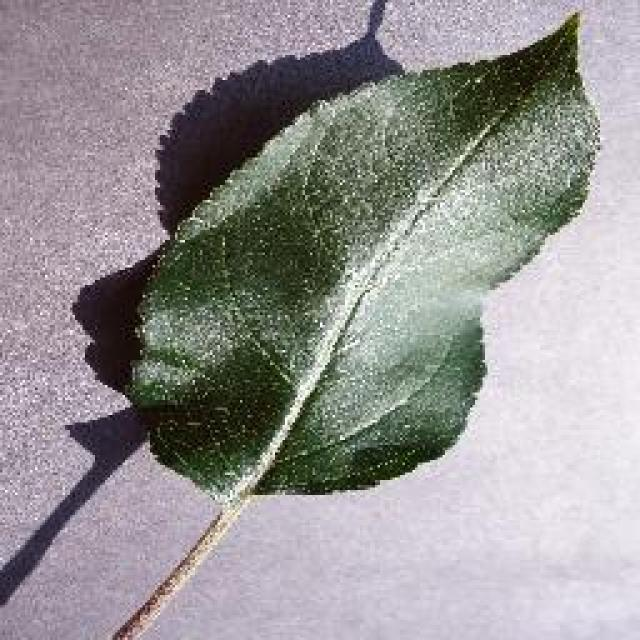apple healthy: (120, 3, 602, 505)
